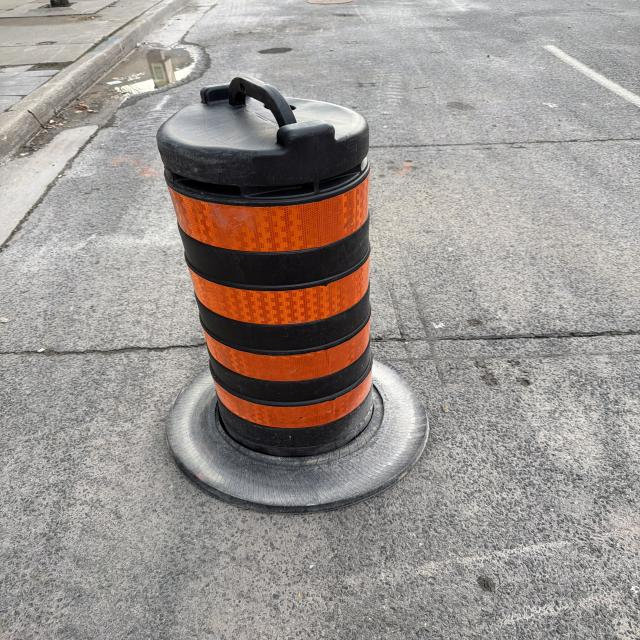Teraffic Barrel: (158, 77, 426, 510)
